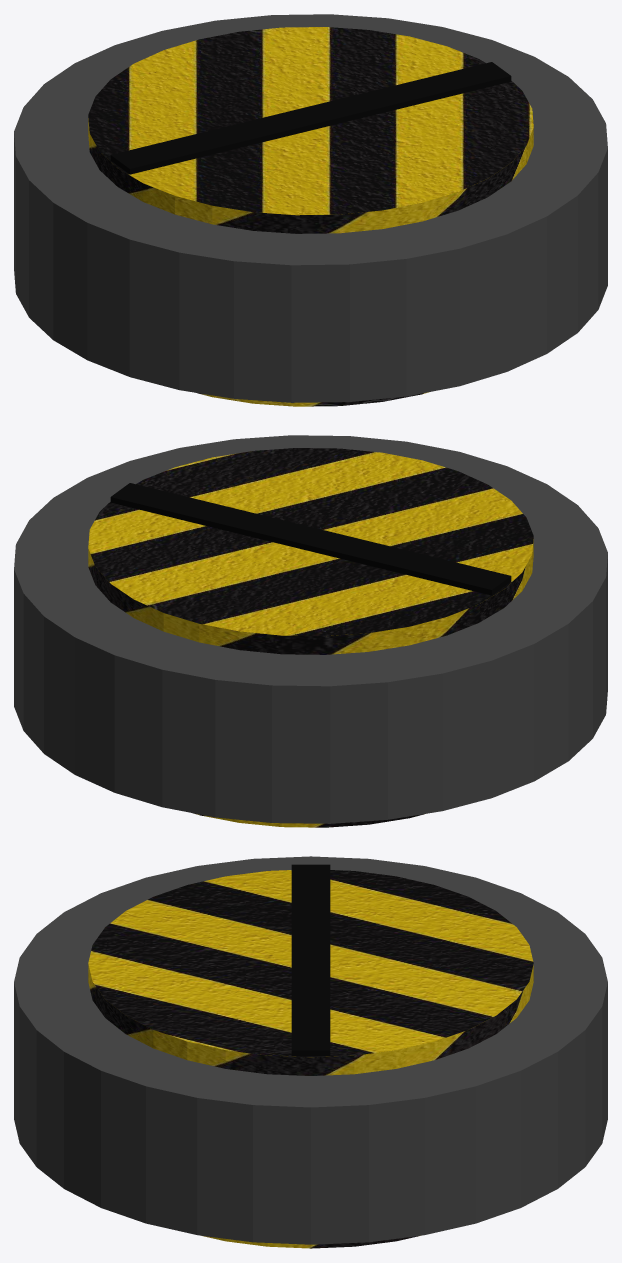
The model's file is COMPUERTA.fbx.
The picture shows the model from 3 angles, top to bottom: view 1: azimuth 30°, elevation 25°; view 2: azimuth 150°, elevation 25°; view 3: azimuth 270°, elevation 25°; orthographic projection.
Parts seen in each view (by area): view 1: Cylinder, Cylinder.001, Cube; view 2: Cylinder, Cylinder.001, Cube; view 3: Cylinder, Cylinder.001, Cube.
Part boxes in pixels (<box>): Cylinder: <box>14,14,607,402</box>; Cylinder.001: <box>88,27,533,406</box>; Cube: <box>110,62,511,174</box>; Cylinder: <box>14,435,607,823</box>; Cylinder.001: <box>88,448,533,827</box>; Cube: <box>110,483,511,595</box>; Cylinder: <box>14,856,607,1244</box>; Cylinder.001: <box>88,870,533,1248</box>; Cube: <box>291,864,330,1056</box>.
Bounding box in the file's own units: 400 × 146 × 400.
Materials: 3 (1 with a texture image).
